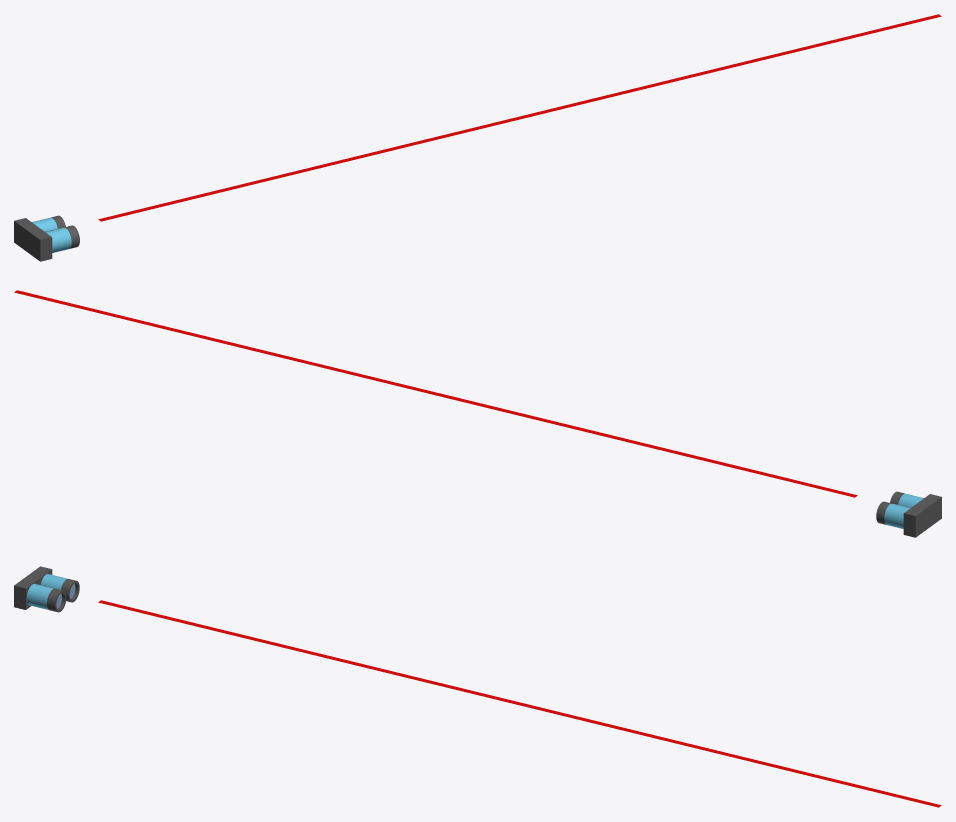
File: lidar_lite_v2_withRay.dae
The picture shows the model from 3 angles, top to bottom: view 1: azimuth 30°, elevation 25°; view 2: azimuth 150°, elevation 25°; view 3: azimuth 330°, elevation 25°; orthographic projection.
Parts seen in each view (by area): view 1: Cube; view 2: Cube; view 3: Cube.
Boxes of the visible parts, <box> form: Cube: <box>14,14,941,261</box>; Cube: <box>14,290,941,537</box>; Cube: <box>14,566,941,807</box>.
Size of the model in its own units: 0.9058 by 0.0453 by 0.0205.
